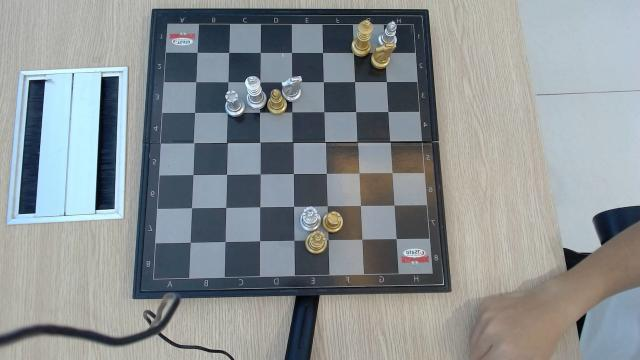black_bishop: (267, 89, 283, 115)
black_king: (351, 20, 375, 57)
black_knight: (370, 45, 396, 70)
black_queen: (305, 231, 329, 255)
black_rook: (324, 211, 345, 232)
white_bishop: (377, 22, 398, 44)
white_king: (245, 76, 267, 108)
white_knight: (281, 77, 303, 102)
white_queen: (300, 207, 322, 232)
white_rook: (224, 90, 245, 116)
